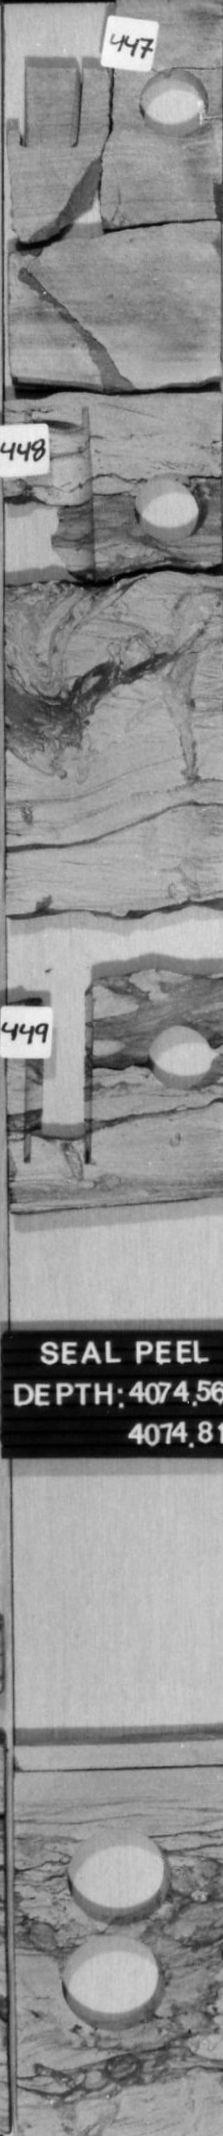hplug: (124, 467, 218, 548), (135, 1018, 223, 1099), (132, 65, 219, 140)
scal: (58, 1819, 179, 1929), (54, 1929, 171, 2038)
vplug: (18, 402, 107, 598), (20, 990, 99, 1172), (10, 7, 97, 154)
